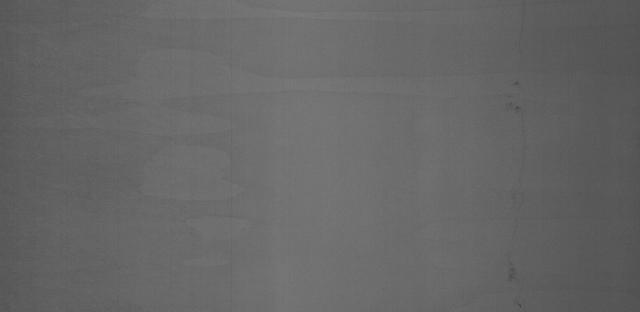water_spot: (482, 83, 535, 305)
